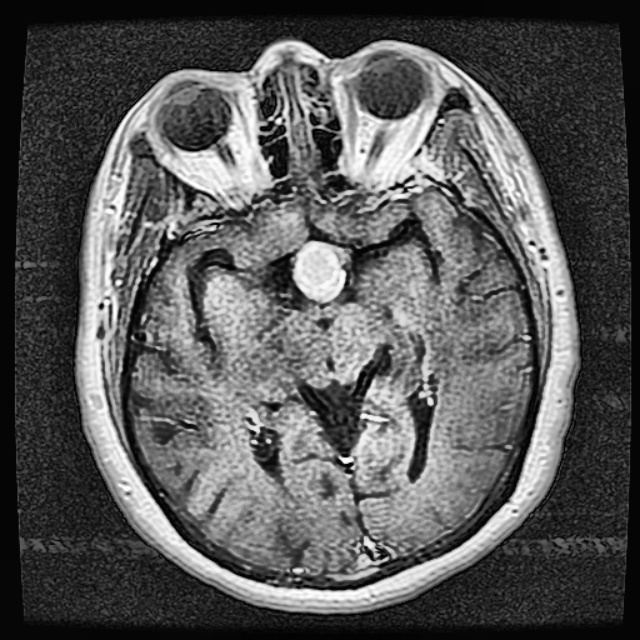Pituitary: (292, 239, 347, 300)
